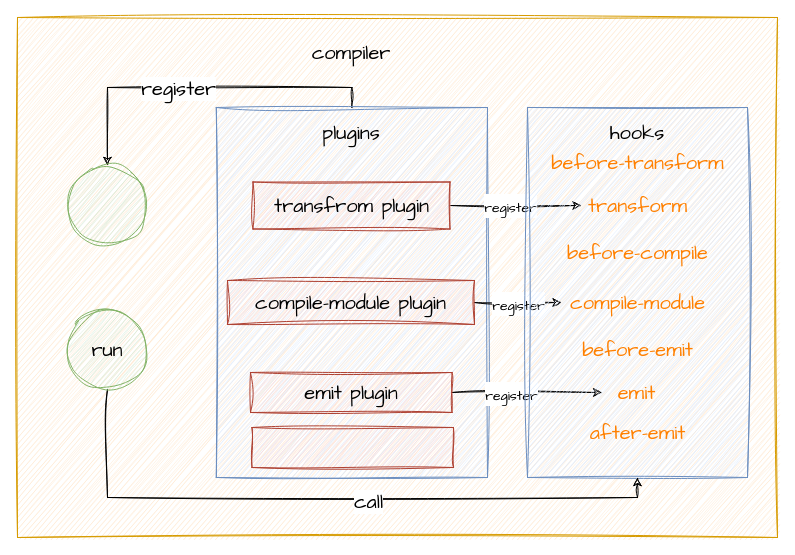
Some shapes in this 795 by 555 pixel diagram are drawn without their labels. The centre of each missing label's shape, as x and y in pixels:
init: point (107, 205)
other...: point (352, 447)
